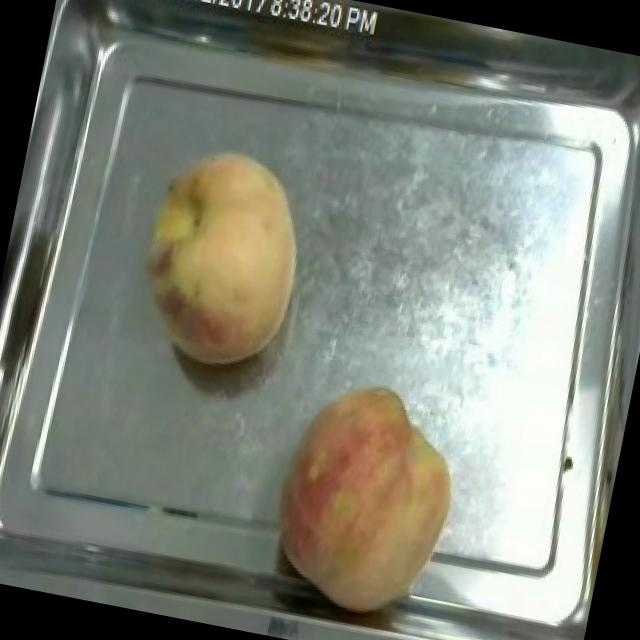Fruit: (249, 363, 482, 638), (114, 130, 328, 388)
